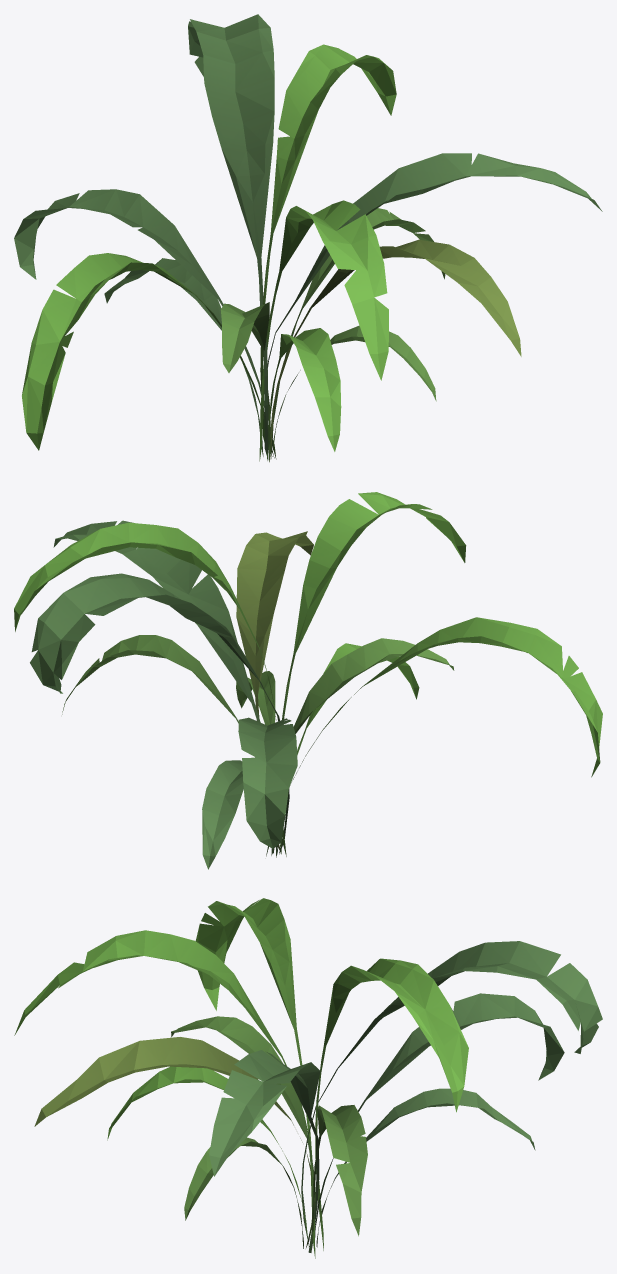
Rendered from Jungle_ThinFern_B.fbx.
3 renders of one model, top to bottom at view 1: azimuth 30°, elevation 25°; view 2: azimuth 150°, elevation 25°; view 3: azimuth 270°, elevation 25°, orthographic. The views are drawn at different scales.
Visible parts, largest first — view 1: Jungle_ThinFern_B; view 2: Jungle_ThinFern_B; view 3: Jungle_ThinFern_B.
Boxes of the visible parts, x1,y1,x2,y2 form: Jungle_ThinFern_B: (14, 14, 602, 462); Jungle_ThinFern_B: (14, 492, 602, 869); Jungle_ThinFern_B: (14, 898, 602, 1258).
Size of the model in its own units: 4.08 by 2.37 by 3.77.
